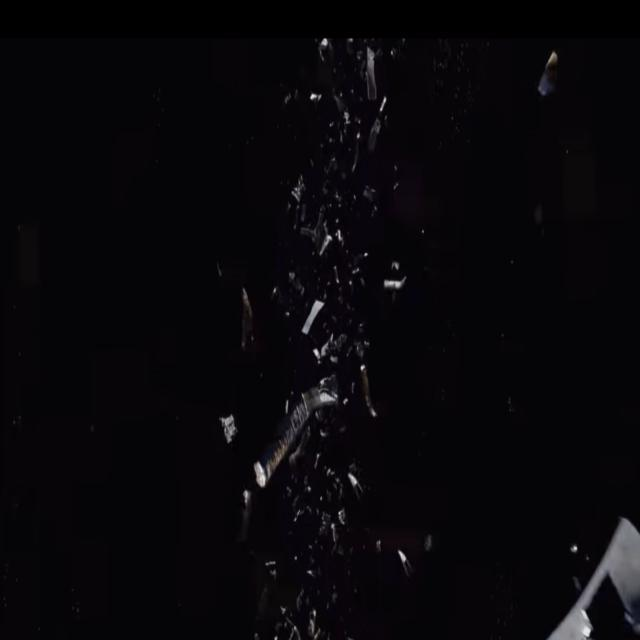large_debris: (547, 511, 639, 640), (255, 369, 344, 489), (536, 38, 574, 140), (310, 330, 348, 374), (359, 359, 381, 433), (365, 47, 385, 110), (273, 601, 304, 640), (304, 293, 328, 343), (290, 172, 310, 224), (218, 408, 241, 452), (384, 272, 413, 304), (325, 509, 352, 543), (348, 465, 367, 509), (398, 544, 418, 585), (305, 601, 325, 640), (238, 479, 255, 519), (241, 286, 257, 327), (307, 86, 327, 116), (349, 269, 369, 297), (317, 36, 333, 69), (265, 555, 282, 585), (366, 117, 384, 145), (317, 228, 334, 257), (342, 106, 356, 140), (420, 531, 434, 561), (291, 504, 304, 534), (336, 228, 348, 252)
